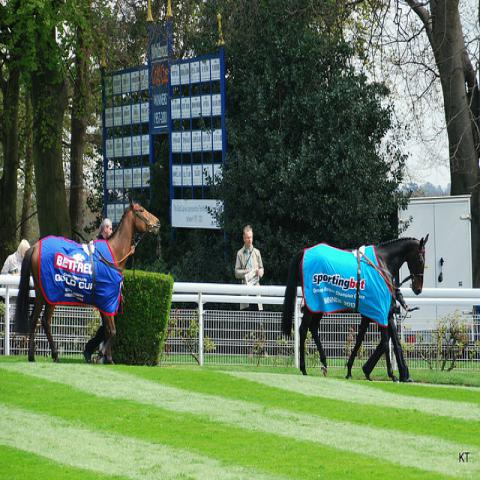truck: (397, 197, 476, 348)
